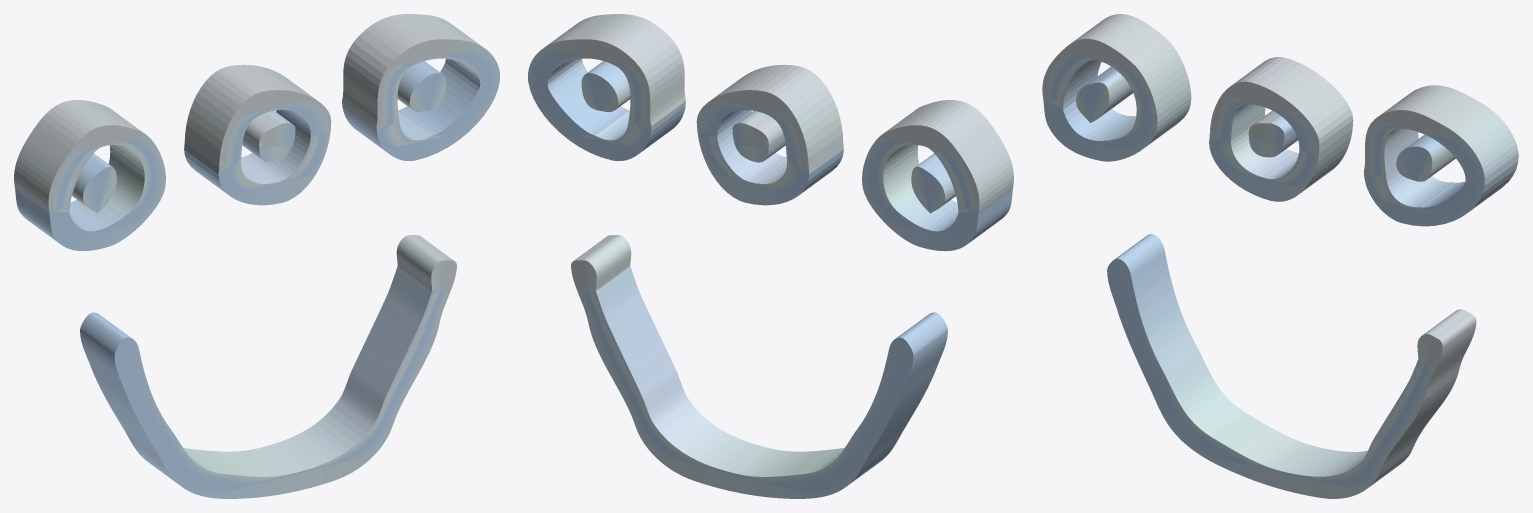
The model's file is 3Dmodel_in_glb.glb.
3 renders of one model, left to right at view 1: azimuth 30°, elevation 25°; view 2: azimuth 150°, elevation 25°; view 3: azimuth 330°, elevation 25°, orthographic. The views are drawn at different scales.
Visible parts, largest first — view 1: hello_figure; view 2: hello_figure; view 3: hello_figure.
Boxes of the visible parts, x1,y1,x2,y2 form: hello_figure: (14,14,499,498); hello_figure: (528,14,1013,498); hello_figure: (1042,14,1518,498).
Bounding box in the file's own units: 160 × 142 × 21.2.
1 material, 1 textured.
